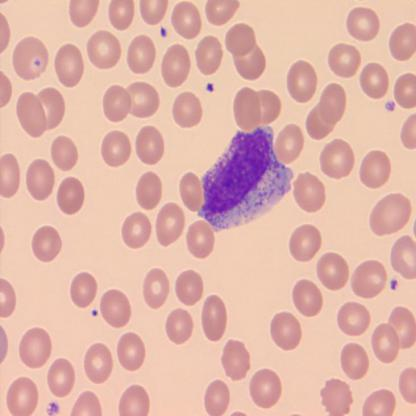Myelocyte: (201, 127, 293, 230)
